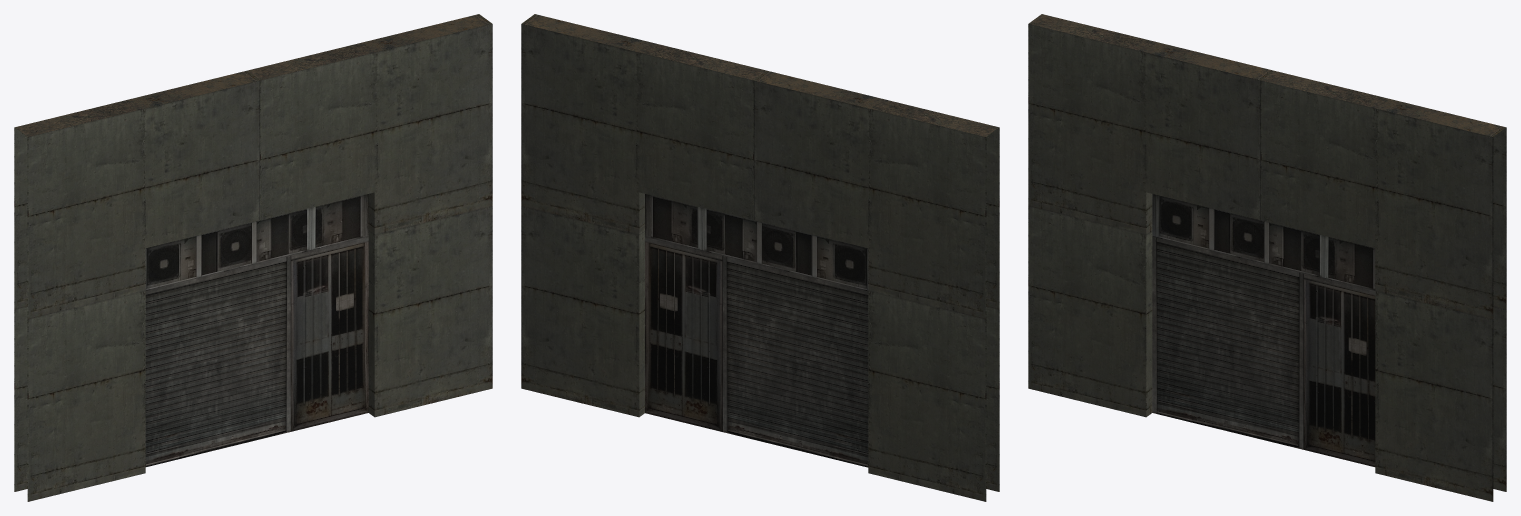
File: garage_door_frame_rg_1.glb
The picture shows the model from 3 angles, left to right: view 1: azimuth 30°, elevation 25°; view 2: azimuth 150°, elevation 25°; view 3: azimuth 330°, elevation 25°; orthographic projection.
Visible parts, largest first — view 1: garage_door_frame_rg_1, garage_door_hr_1; view 2: garage_door_frame_rg_1, garage_door_hr_1; view 3: garage_door_frame_rg_1, garage_door_hr_1.
Part boxes in pixels (bbox=[...]): garage_door_frame_rg_1: bbox=[14, 14, 492, 501]; garage_door_hr_1: bbox=[145, 194, 368, 466]; garage_door_frame_rg_1: bbox=[521, 14, 999, 501]; garage_door_hr_1: bbox=[645, 194, 868, 467]; garage_door_frame_rg_1: bbox=[1028, 14, 1506, 501]; garage_door_hr_1: bbox=[1152, 194, 1375, 466].
Bounding box in the file's own units: 8 × 6 × 0.4.
Materials: 3 (3 with a texture image).
